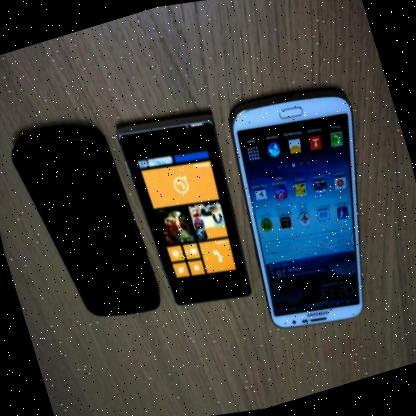phone good: (234, 83, 384, 370), (118, 106, 252, 322)
